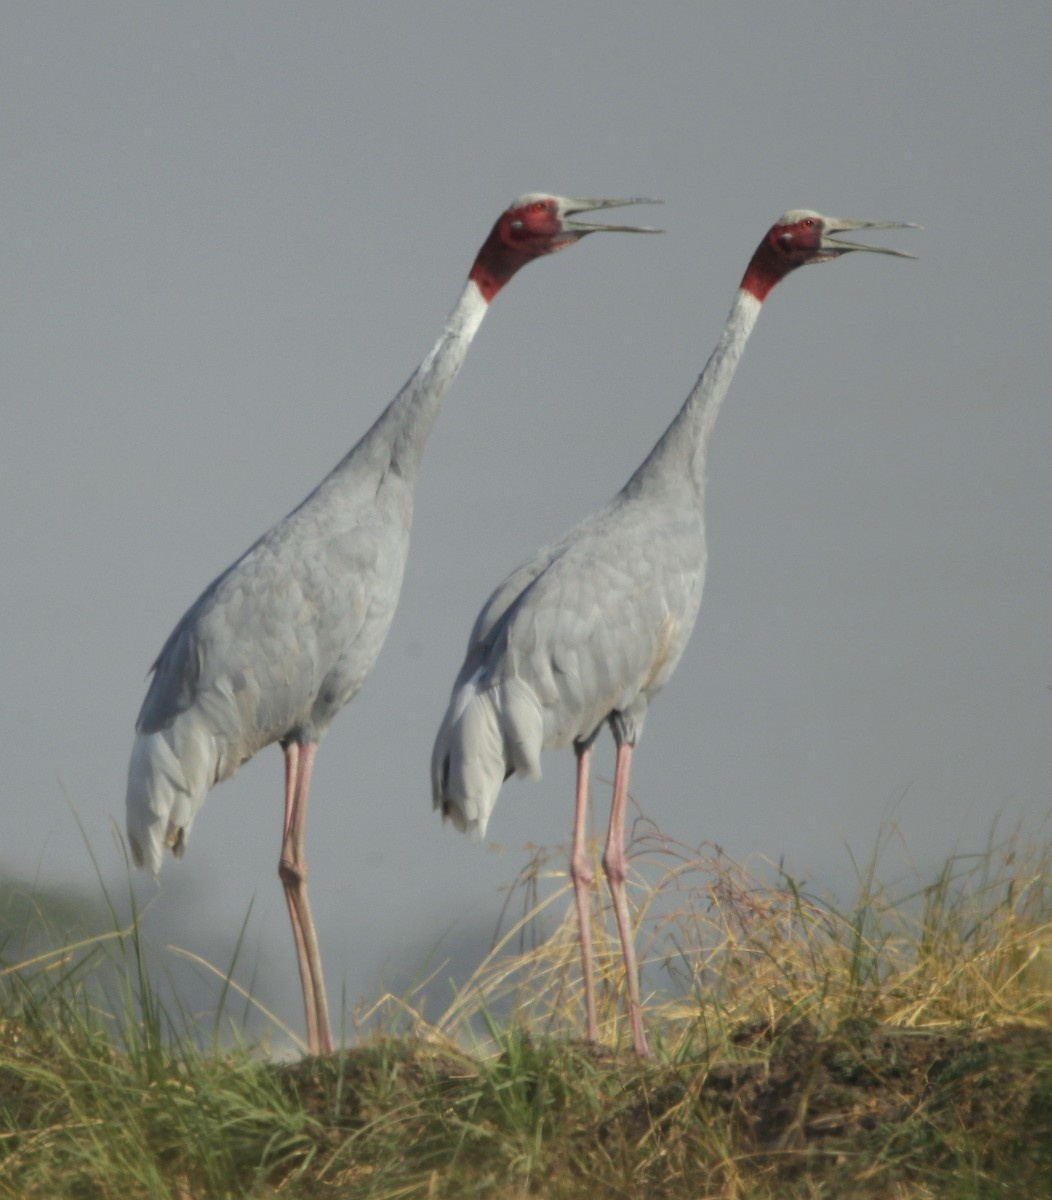crane: (82, 184, 677, 1068), (434, 204, 940, 1076)
